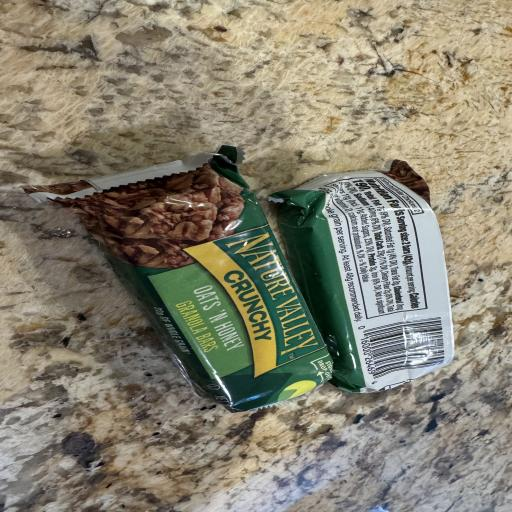granola: (24, 146, 332, 411), (270, 161, 453, 392)
